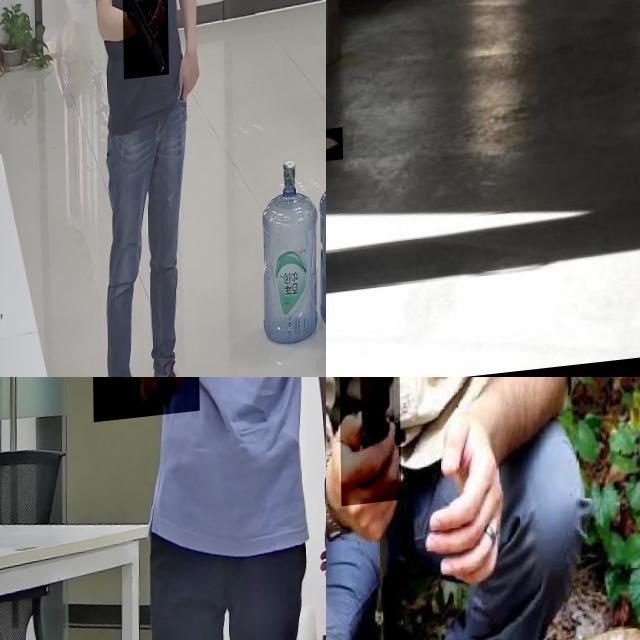-: (338, 377, 400, 513), (326, 133, 364, 171)
gun-knife-thesis - v11 Yolov5 augmented: (91, 377, 199, 453), (122, 0, 168, 84)
